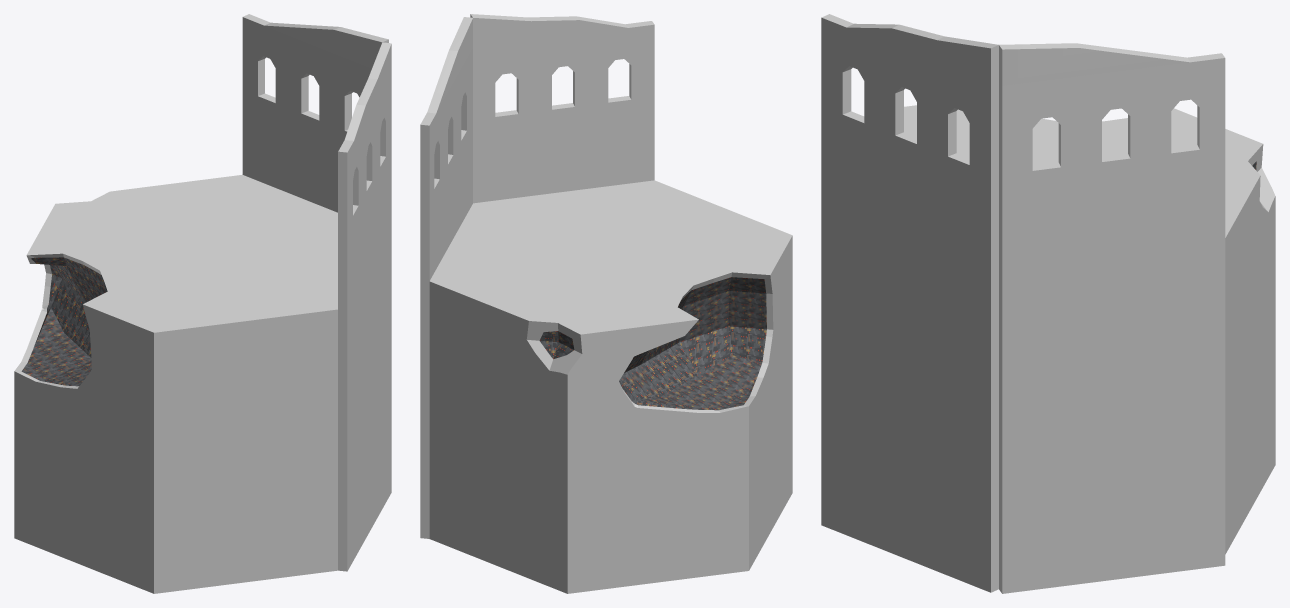
The model's file is BrokenBuilding.fbx.
The picture shows the model from 3 angles, left to right: view 1: azimuth 30°, elevation 25°; view 2: azimuth 150°, elevation 25°; view 3: azimuth 270°, elevation 25°; orthographic projection. The views are drawn at different scales.
Visible parts, largest first — view 1: BrokenBuilding.001; view 2: BrokenBuilding.001; view 3: BrokenBuilding.001.
Boxes of the visible parts, x1,y1,x2,y2 form: BrokenBuilding.001: [14, 14, 391, 593]; BrokenBuilding.001: [420, 14, 792, 593]; BrokenBuilding.001: [821, 14, 1275, 593].
Size of the model in its own units: 1994 by 2580 by 1950.
